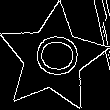O_W: (25, 34, 81, 83)
